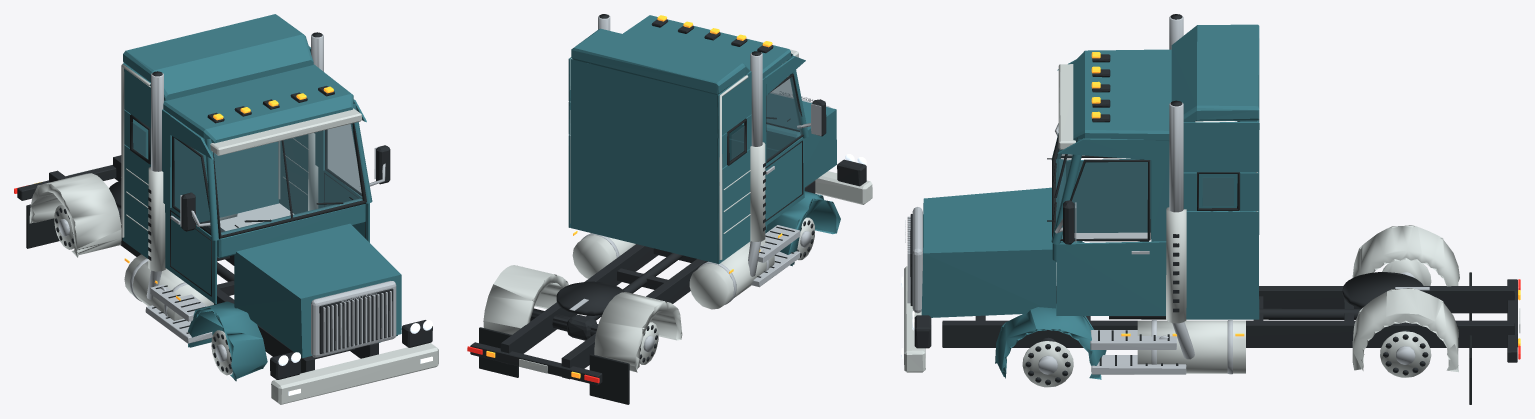
File: HighwayKing_LOD2.fbx
3 renders of one model, left to right at view 1: azimuth 30°, elevation 25°; view 2: azimuth 150°, elevation 25°; view 3: azimuth 270°, elevation 25°, orthographic. The views are drawn at different scales.
Visible parts, largest first — view 1: CabExterior__TT_Paint_Primary.001, Chassis__TT_Paint_Primary.001, Chassis__TT_MetalTrim.001, CabExterior__TT_Glass.001, Chassis__TT_Chassis.001, Chassis__TT_Chrome.001, CabExterior__TT_MetalTrim.001, CabExterior__TT_Rubber.001, CabExterior__TT_Chrome.001, CabExterior__TT_Chassis.001, Chassis__TT_Rubber.001, LampHeadlamp__TT_Headlamp.001 (+2 smaller); view 2: CabExterior__TT_Paint_Primary.001, Chassis__TT_MetalTrim.001, Chassis__TT_Chassis.001, Chassis__TT_Paint_Primary.001, Chassis__TT_Rubber.001, CabExterior__TT_Glass.001, Chassis__TT_Chrome.001, CabExterior__TT_Chrome.001, CabExterior__TT_Rubber.001, CabExterior__TT_MetalTrim.001, CabExterior__TT_Chassis.001, Wheel_RR__TT_MetalTrim.001; view 3: CabExterior__TT_Paint_Primary.001, Chassis__TT_Paint_Primary.001, Chassis__TT_Chassis.001, Chassis__TT_MetalTrim.001, CabExterior__TT_Glass.001, Chassis__TT_Chrome.001, CabExterior__TT_Chrome.001, CabExterior__TT_Rubber.001, CabExterior__TT_MetalTrim.001, Wheel_RL__TT_MetalTrim.001, Wheel_FL__TT_MetalTrim.001, CabExterior__TT_Chassis.001 (+1 smaller).
Part boxes in pixels (bbox=[...]): CabExterior__TT_Paint_Primary.001: bbox=[122, 14, 372, 303]; Chassis__TT_Paint_Primary.001: bbox=[188, 223, 401, 381]; Chassis__TT_MetalTrim.001: bbox=[29, 133, 438, 404]; CabExterior__TT_Glass.001: bbox=[132, 122, 362, 234]; Chassis__TT_Chassis.001: bbox=[17, 32, 432, 379]; Chassis__TT_Chrome.001: bbox=[121, 34, 396, 357]; CabExterior__TT_MetalTrim.001: bbox=[121, 64, 361, 237]; CabExterior__TT_Rubber.001: bbox=[130, 114, 366, 333]; CabExterior__TT_Chrome.001: bbox=[145, 163, 385, 343]; CabExterior__TT_Chassis.001: bbox=[181, 86, 390, 231]; Chassis__TT_Rubber.001: bbox=[26, 197, 353, 248]; LampHeadlamp__TT_Headlamp.001: bbox=[278, 320, 432, 395]; CabExterior__TT_Paint_Primary.001: bbox=[568, 15, 808, 264]; Chassis__TT_MetalTrim.001: bbox=[483, 142, 872, 373]; Chassis__TT_Chassis.001: bbox=[470, 14, 866, 385]; Chassis__TT_Paint_Primary.001: bbox=[729, 93, 840, 266]; Chassis__TT_Rubber.001: bbox=[479, 119, 790, 404]; CabExterior__TT_Glass.001: bbox=[731, 77, 802, 160]; Chassis__TT_Chrome.001: bbox=[569, 15, 830, 310]; CabExterior__TT_Chrome.001: bbox=[750, 123, 810, 287]; CabExterior__TT_Rubber.001: bbox=[727, 73, 803, 277]; CabExterior__TT_MetalTrim.001: bbox=[570, 49, 798, 259]; CabExterior__TT_Chassis.001: bbox=[651, 19, 826, 136]; Wheel_RR__TT_MetalTrim.001: bbox=[639, 322, 658, 364]; CabExterior__TT_Paint_Primary.001: bbox=[1051, 24, 1259, 319]; Chassis__TT_Paint_Primary.001: bbox=[921, 187, 1106, 379]; Chassis__TT_Chassis.001: bbox=[910, 14, 1517, 362]; Chassis__TT_MetalTrim.001: bbox=[904, 207, 1520, 373]; CabExterior__TT_Glass.001: bbox=[1055, 147, 1233, 238]; Chassis__TT_Chrome.001: bbox=[905, 16, 1429, 374]; CabExterior__TT_Chrome.001: bbox=[1055, 123, 1186, 374]; CabExterior__TT_Rubber.001: bbox=[1052, 121, 1239, 365]; CabExterior__TT_MetalTrim.001: bbox=[1058, 64, 1257, 211]; Wheel_RL__TT_MetalTrim.001: bbox=[1380, 331, 1431, 377]; Wheel_FL__TT_MetalTrim.001: bbox=[1022, 341, 1073, 387]; CabExterior__TT_Chassis.001: bbox=[1054, 54, 1110, 244].
Size of the model in its own units: 311 by 391 by 724.
